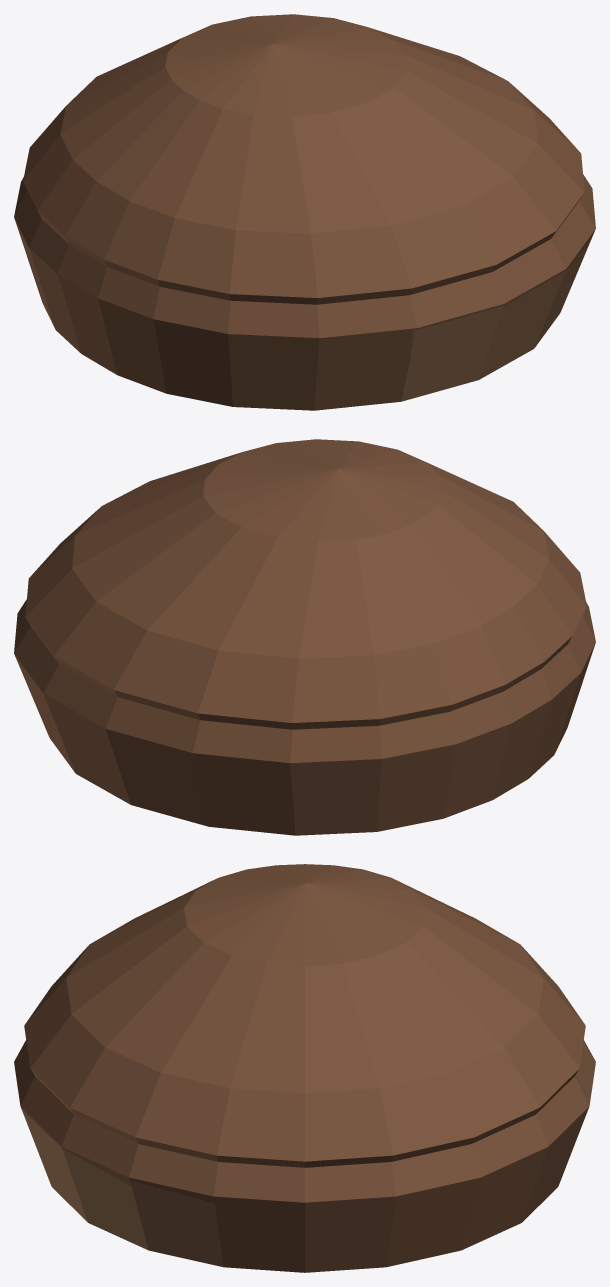
The model's file is antique-kenzan-chestnut.glb.
The picture shows the model from 3 angles, top to bottom: view 1: azimuth 30°, elevation 25°; view 2: azimuth 150°, elevation 25°; view 3: azimuth 270°, elevation 25°; orthographic projection.
Visible parts, largest first — view 1: antique-kenzan-chestnut/lid-4, antique-kenzan-chestnut/lid-3, antique-kenzan-chestnut/vessel-2, antique-kenzan-chestnut/vessel-3, antique-kenzan-chestnut/lid-5, antique-kenzan-chestnut/lid-2; view 2: antique-kenzan-chestnut/lid-4, antique-kenzan-chestnut/lid-3, antique-kenzan-chestnut/vessel-2, antique-kenzan-chestnut/vessel-3, antique-kenzan-chestnut/lid-5, antique-kenzan-chestnut/lid-2; view 3: antique-kenzan-chestnut/lid-4, antique-kenzan-chestnut/lid-3, antique-kenzan-chestnut/vessel-2, antique-kenzan-chestnut/vessel-3, antique-kenzan-chestnut/lid-5, antique-kenzan-chestnut/lid-2.
Part boxes in pixels (box(x1,y1,x2,y2)): antique-kenzan-chestnut/lid-4: box(60, 27, 537, 233); antique-kenzan-chestnut/lid-3: box(23, 82, 584, 297); antique-kenzan-chestnut/vessel-2: box(14, 218, 595, 410); antique-kenzan-chestnut/vessel-3: box(14, 174, 595, 338); antique-kenzan-chestnut/lid-5: box(165, 14, 406, 116); antique-kenzan-chestnut/lid-2: box(38, 195, 582, 304); antique-kenzan-chestnut/lid-4: box(72, 452, 549, 658); antique-kenzan-chestnut/lid-3: box(25, 507, 586, 722); antique-kenzan-chestnut/vessel-2: box(14, 643, 595, 835); antique-kenzan-chestnut/vessel-3: box(14, 599, 595, 763); antique-kenzan-chestnut/lid-5: box(203, 439, 444, 541); antique-kenzan-chestnut/lid-2: box(27, 620, 571, 729); antique-kenzan-chestnut/lid-4: box(66, 879, 543, 1093); antique-kenzan-chestnut/lid-3: box(24, 946, 585, 1161); antique-kenzan-chestnut/vessel-2: box(21, 1107, 588, 1272); antique-kenzan-chestnut/vessel-3: box(14, 1040, 595, 1202); antique-kenzan-chestnut/lid-5: box(184, 864, 425, 965); antique-kenzan-chestnut/lid-2: box(31, 1069, 578, 1167).
Bounding box in the file's own units: 0.375 × 0.2069 × 0.375.
3 materials, 3 textured.
